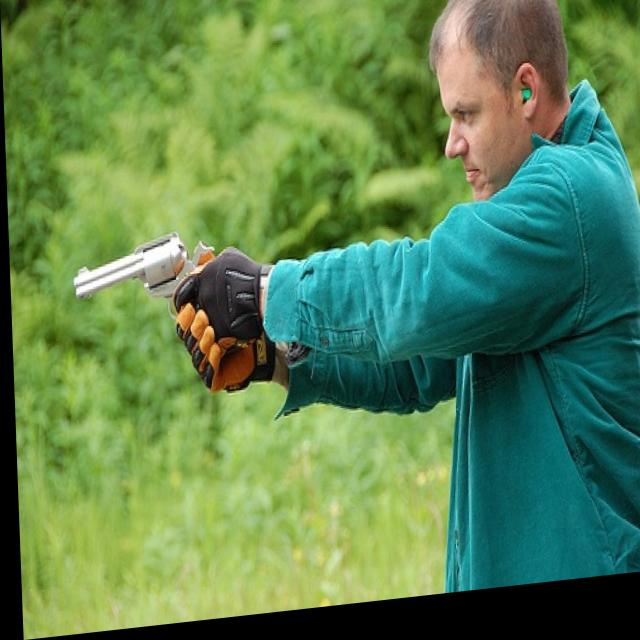handgun: (67, 233, 245, 373)
